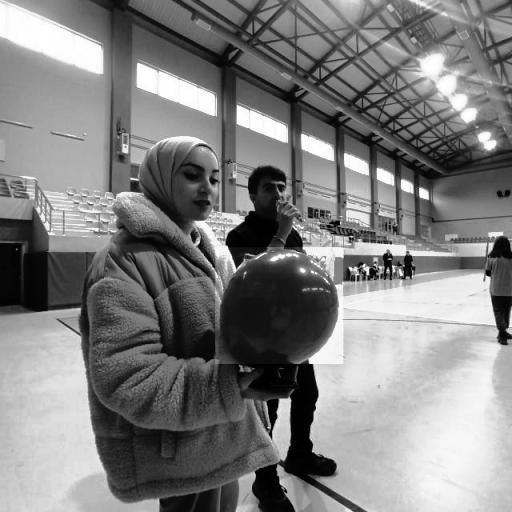balloon: (215, 247, 343, 364)
